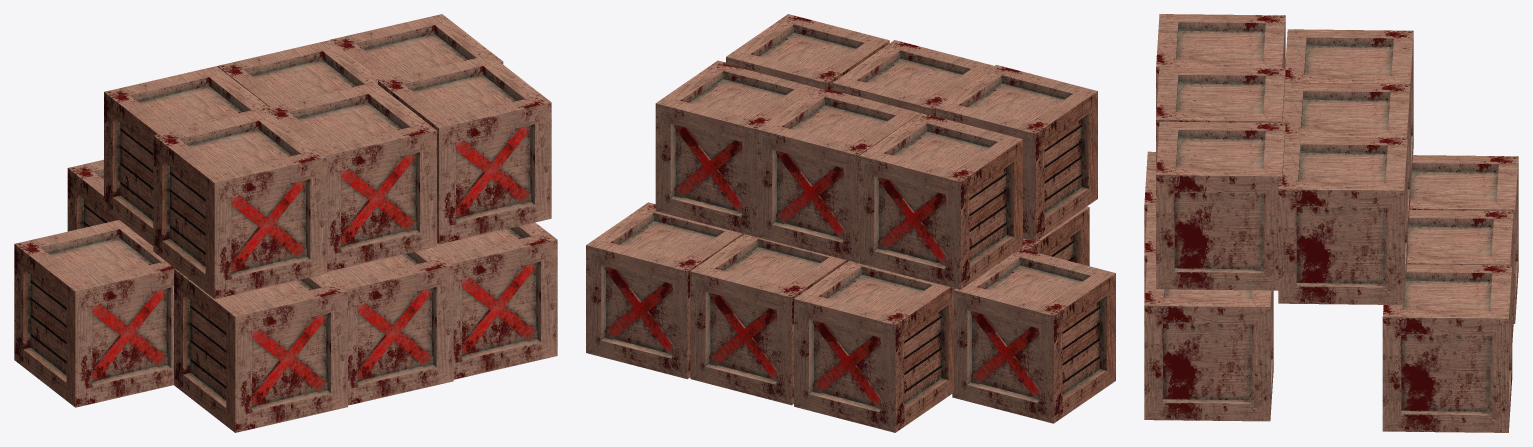
The model's file is Crate_Pile.fbx.
The picture shows the model from 3 angles, left to right: view 1: azimuth 30°, elevation 25°; view 2: azimuth 150°, elevation 25°; view 3: azimuth 270°, elevation 25°; orthographic projection. The views are drawn at different scales.
Parts seen in each view (by area): view 1: Crate14, Crate8, Crate9, Crate12, Crate13, Crate10, Crate11, Crate7, Crate6, Crate4, Crate2; view 2: Crate7, Crate8, Crate2, Crate6, Crate4, Crate, Crate1, Crate14, Crate12, Crate13, Crate9; view 3: Crate4, Crate12, Crate, Crate11, Crate7, Crate6, Crate13, Crate14, Crate2, Crate1, Crate9, Crate10.
Part boxes in pixels (x1,y1,x2,y2): Crate14: (153, 110, 327, 299); Crate8: (14, 220, 175, 407); Crate9: (174, 269, 347, 432); Crate12: (378, 55, 551, 244); Crate13: (263, 83, 436, 271); Crate10: (326, 248, 453, 405); Crate11: (432, 222, 557, 379); Crate7: (104, 66, 268, 245); Crate6: (217, 40, 380, 106); Crate4: (330, 14, 503, 79); Crate2: (67, 159, 118, 231); Crate7: (859, 113, 1022, 289); Crate8: (952, 248, 1115, 423); Crate2: (794, 261, 955, 432); Crate6: (757, 88, 920, 263); Crate4: (655, 60, 816, 237); Crate: (586, 202, 743, 379); Crate1: (690, 234, 848, 405); Crate14: (935, 65, 1097, 241); Crate12: (726, 14, 889, 90); Crate13: (832, 40, 995, 116); Crate9: (1021, 206, 1089, 266); Crate4: (1278, 136, 1407, 304); Crate12: (1156, 121, 1285, 290); Crate: (1382, 264, 1512, 432); Crate11: (1144, 252, 1273, 421); Crate7: (1285, 29, 1413, 195); Crate6: (1282, 83, 1410, 238); Crate13: (1156, 67, 1285, 173); Crate14: (1156, 14, 1285, 118); Crate2: (1409, 155, 1518, 323); Crate1: (1407, 210, 1513, 342); Crate9: (1144, 151, 1155, 253); Crate10: (1144, 205, 1155, 303).
Size of the model in its own units: 2.23 by 1.17 by 1.62.
